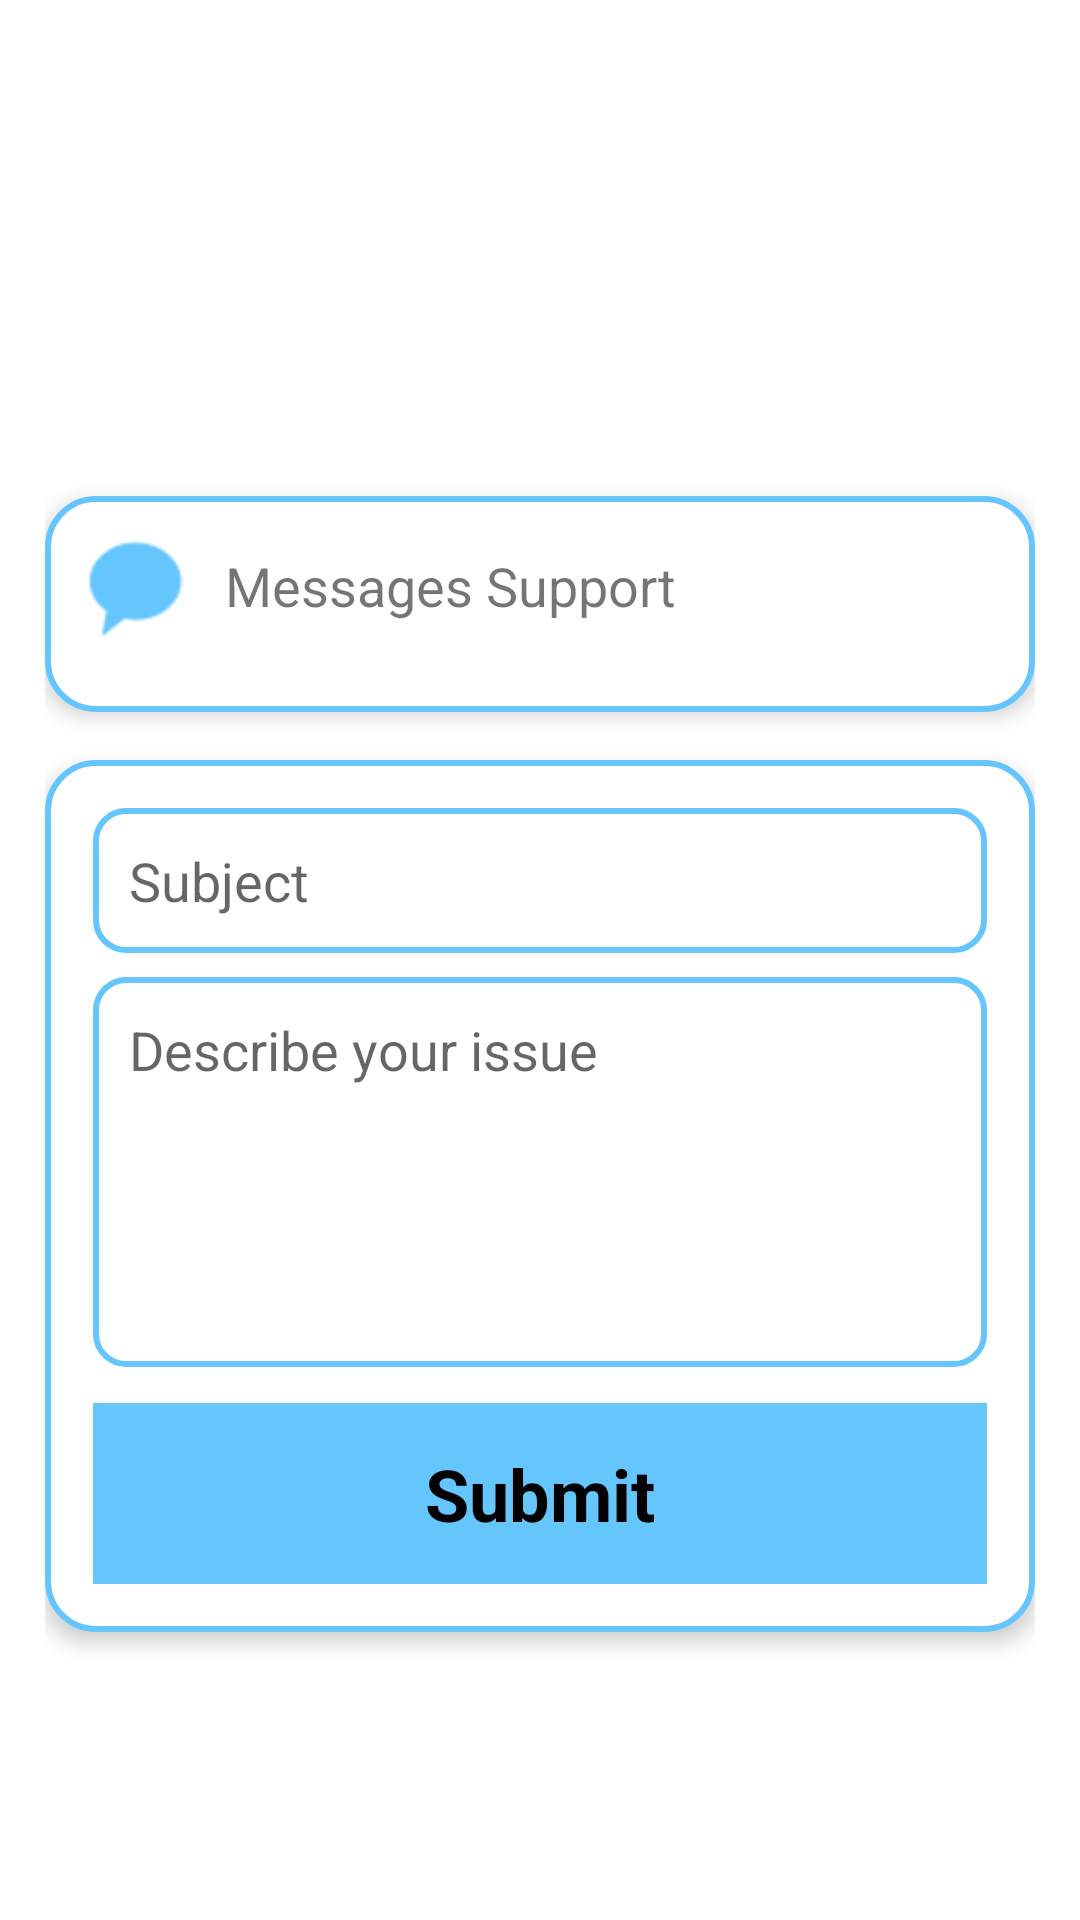

Where icons sit on this 1080px×1920px app screen, as [x1, y1, x2, y2]:
sym action chat: [89, 541, 183, 637]
